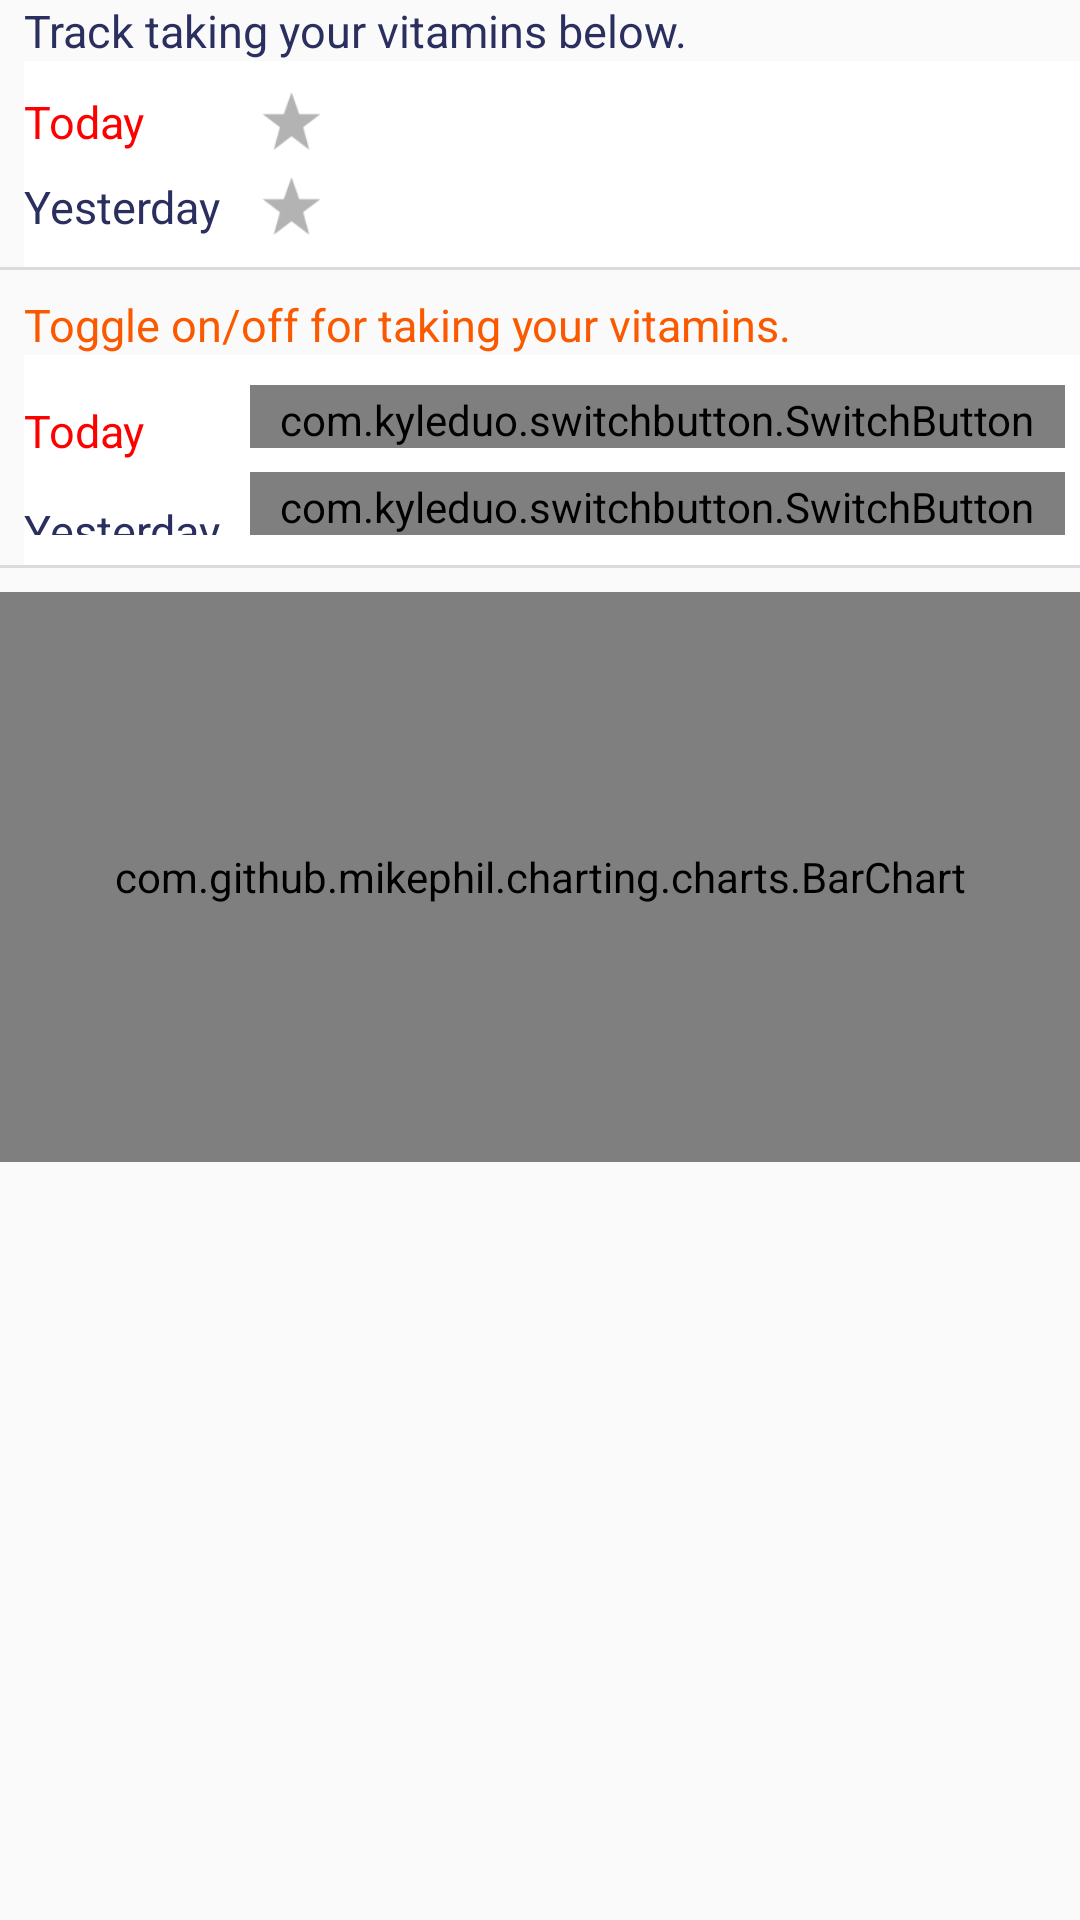

Named icons in this screenshot (1080w x 1920h) and their centers, [x,y]:
onestar: [291,121], [291,206]
